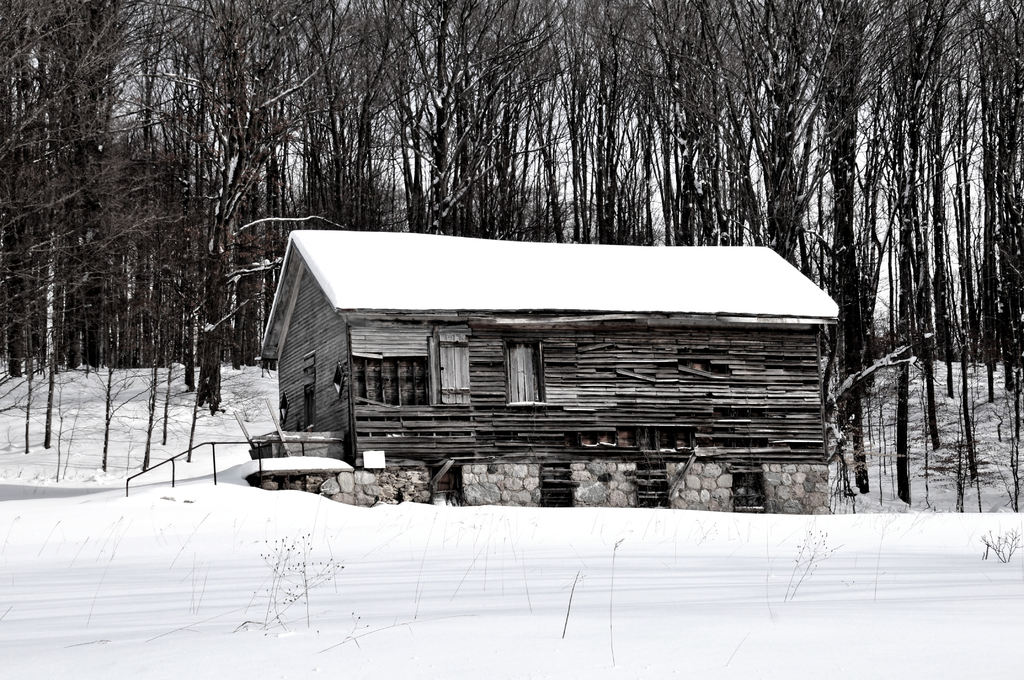Tree: (0, 0, 1024, 514)
